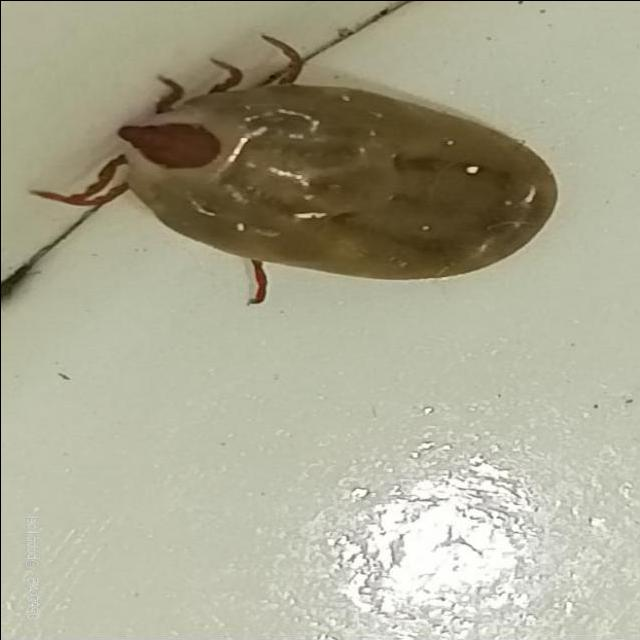Rhipicephalus Sanguineus-F-Fed: (27, 34, 557, 308)
